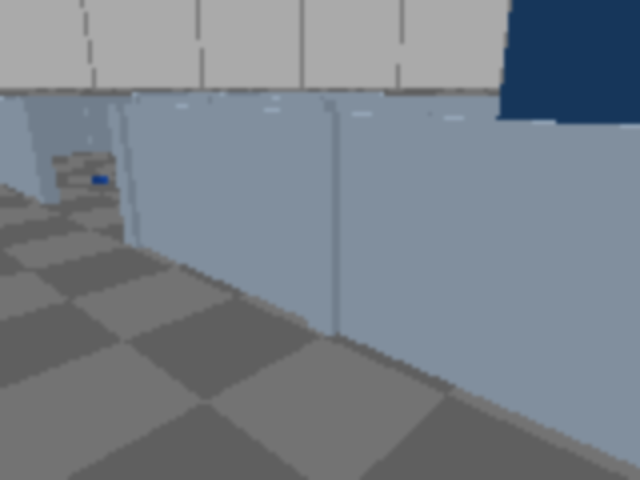person: (495, 0, 638, 383)
